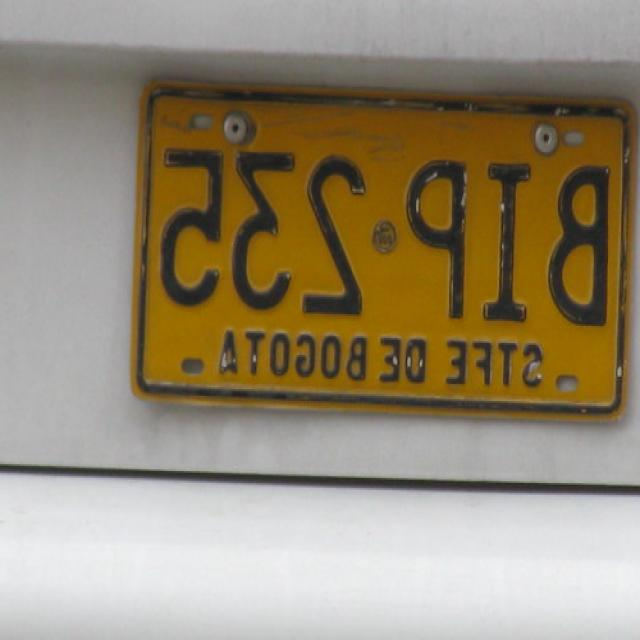placas: (141, 87, 629, 331)
